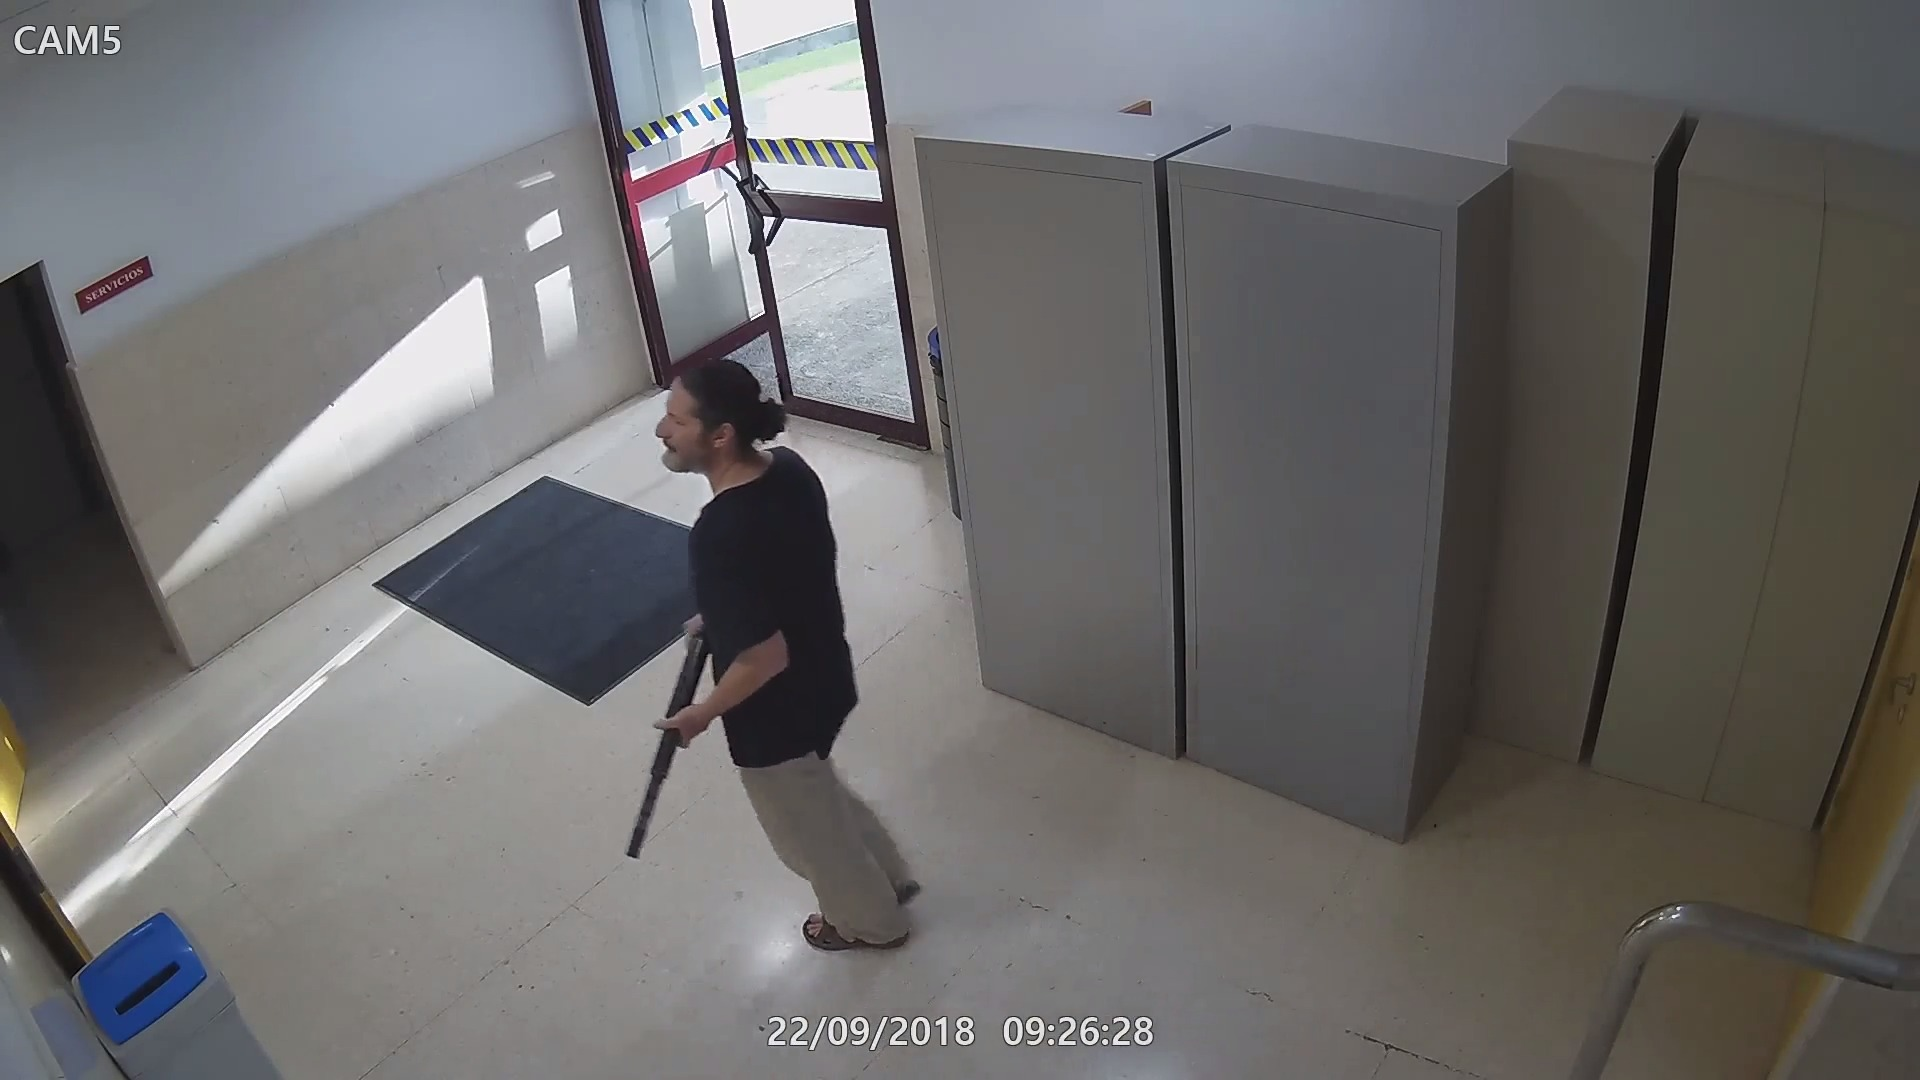Short_rifle: (625, 632, 716, 862)
